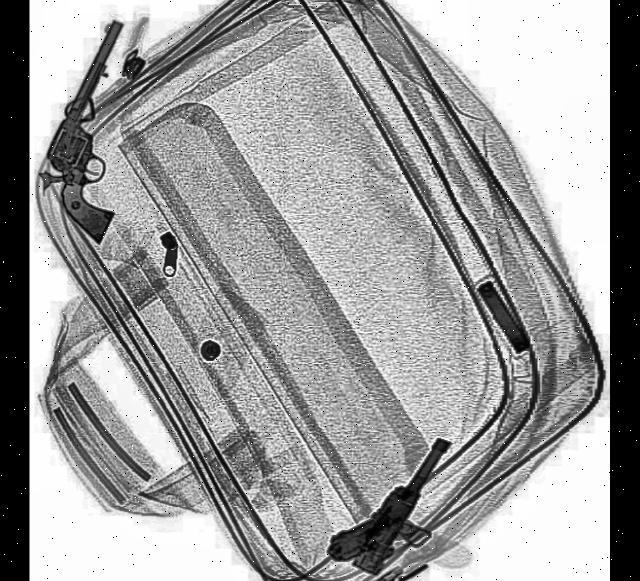Gun: (30, 13, 185, 238), (324, 403, 454, 581)
